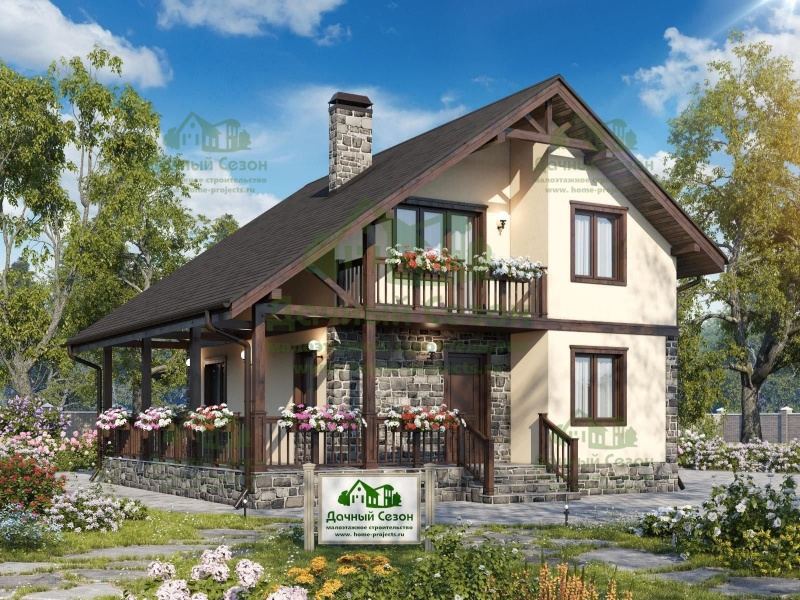window: (365, 197, 483, 260), (567, 194, 625, 285), (570, 348, 621, 419)
